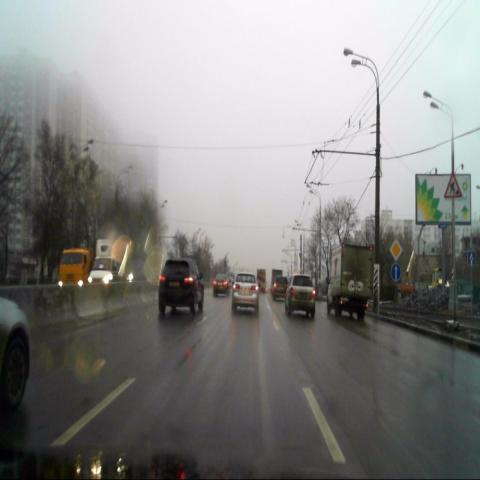2_1: (390, 238, 402, 263)
